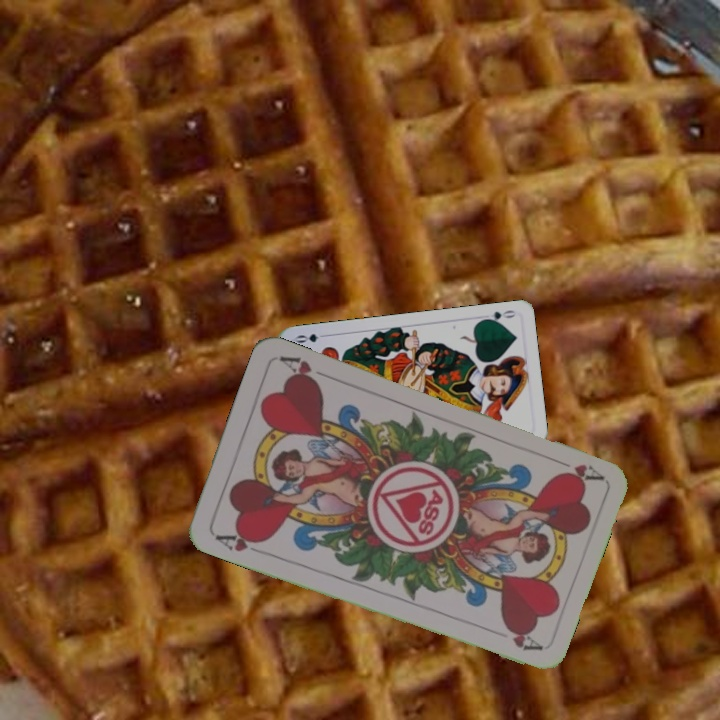GO: (478, 306, 518, 325)
HA: (547, 454, 605, 487), (211, 527, 269, 557)
